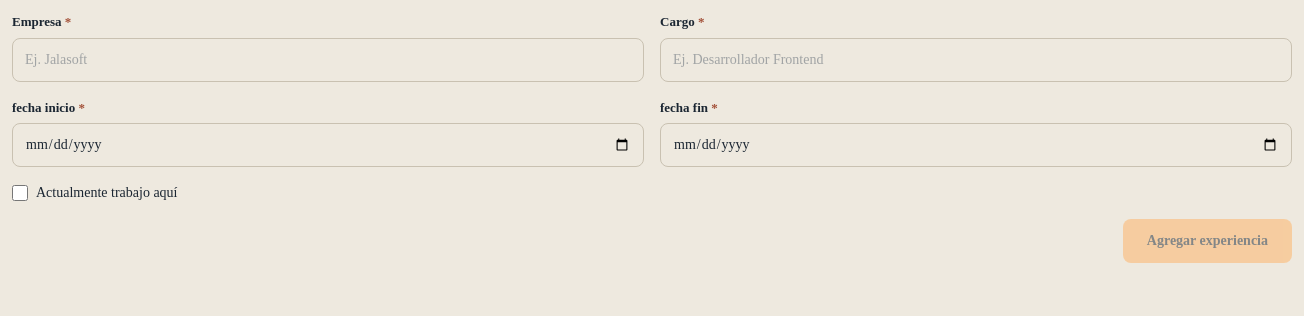
Test: FormularioExperiencia · error al guardar en la API › muestra el mensaje del backend, no limpia y lo quita al cambiar un campo
This screenshot has width=1304, height=316.
In the field with placeholder "Ej. Jalasoft": (328, 60) [12, 38, 644, 82], type "Jalasoft"
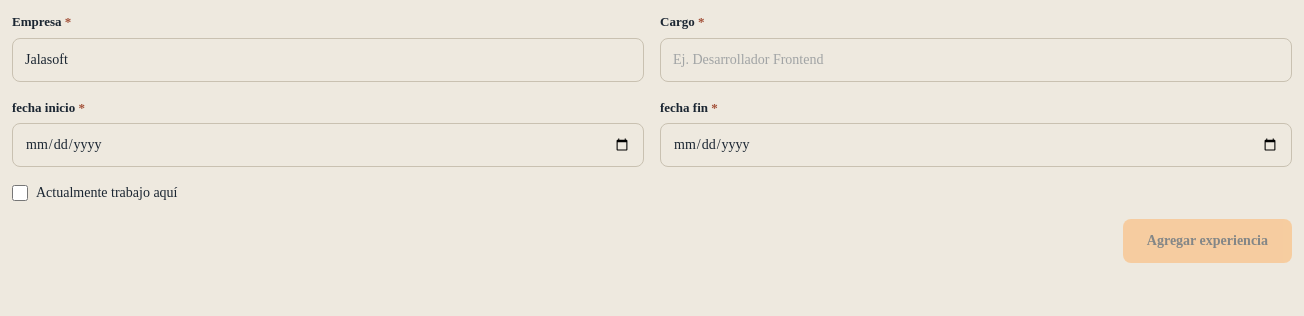
In the field with placeholder "Ej. Desarrollador Frontend": (976, 60) [660, 38, 1292, 82], type "Dev"
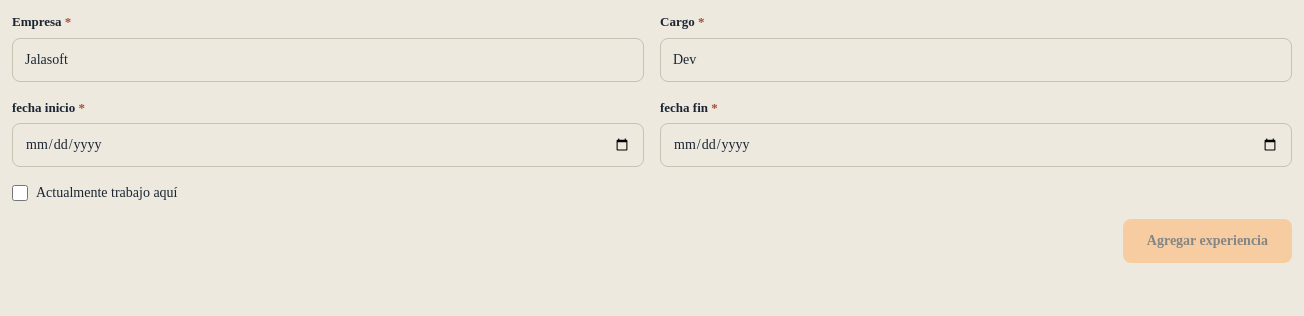
In the date field labelled "fecha inicio *": (328, 145) [12, 123, 644, 167], type "2023-08-01"
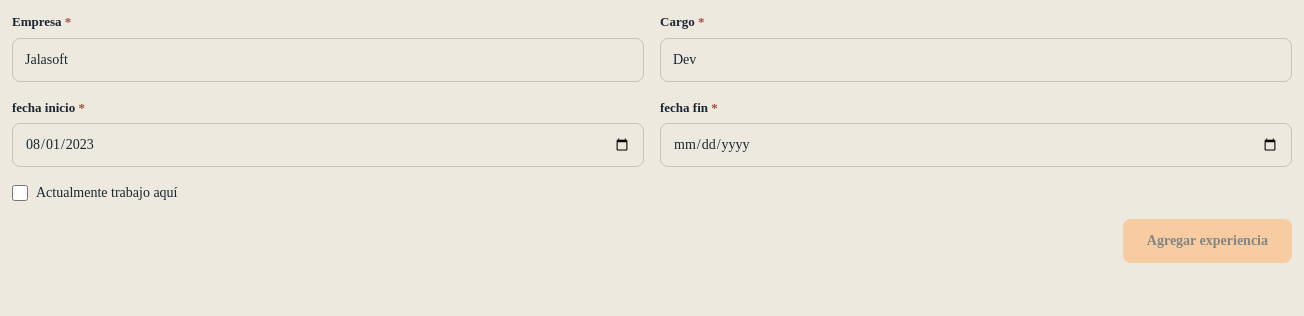
In the date field labelled "fecha fin *": (976, 145) [660, 123, 1292, 167], type "2024-01-31"
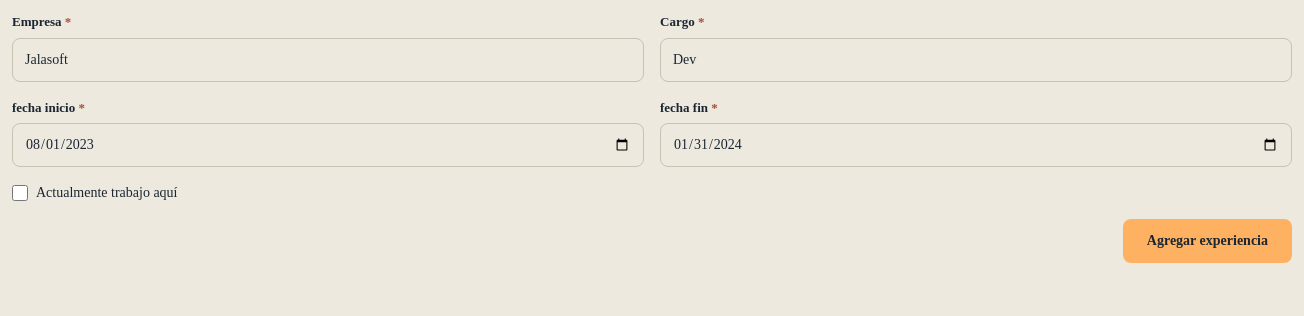
Click the button "Agregar experiencia": (1207, 241) [1123, 219, 1292, 263]
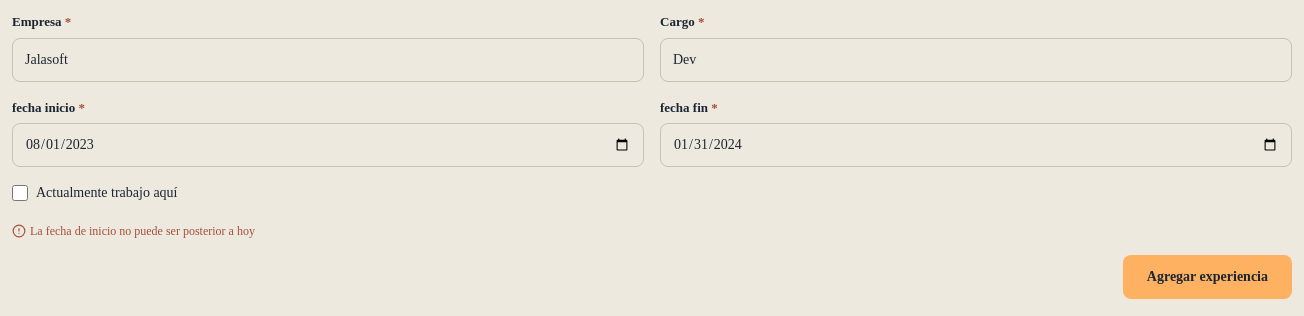
Replace the text in the field with placeholder "Ej. Desarrollador Frontend" with "Tech Lead": (976, 60) [660, 38, 1292, 82]
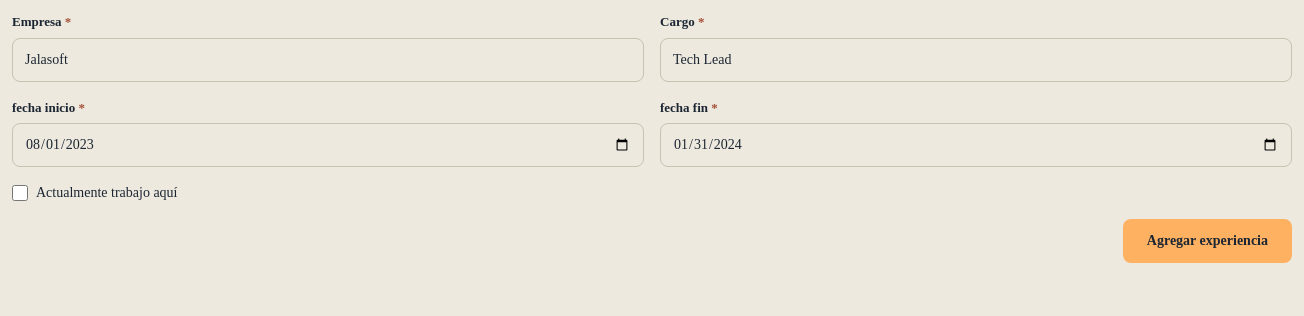
Result: the text "La fecha de inicio no puede ser posterior a hoy" is gone
